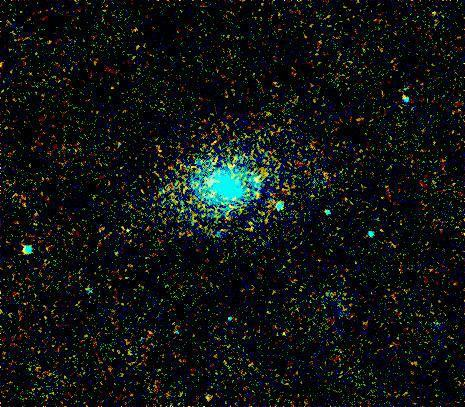star: (197, 384, 227, 407)
